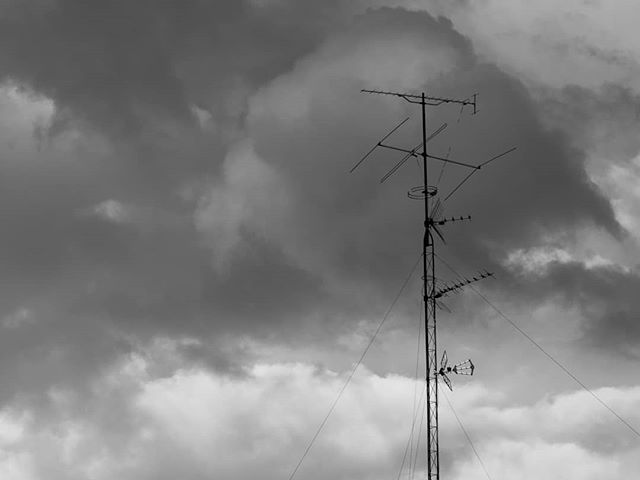sky: (1, 1, 634, 476)
